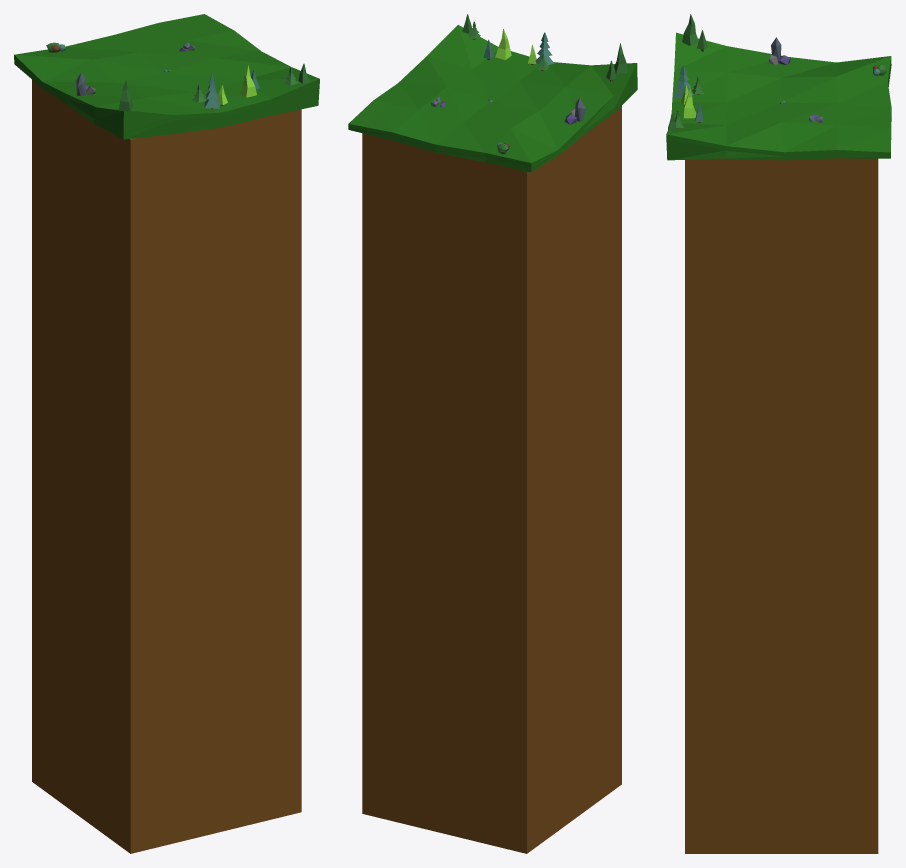
Rendered from baseFinal.fbx.
3 renders of one model, left to right at view 1: azimuth 30°, elevation 25°; view 2: azimuth 150°, elevation 25°; view 3: azimuth 270°, elevation 25°, orthographic. The views are drawn at different scales.
Visible parts, largest first — view 1: Icosphere.010; view 2: Icosphere.010; view 3: Icosphere.010.
Boxes of the visible parts, x1,y1,x2,y2 form: Icosphere.010: (14, 14, 319, 853); Icosphere.010: (348, 14, 637, 853); Icosphere.010: (666, 14, 891, 853).
Size of the model in its own units: 3012 by 11228 by 3029.
